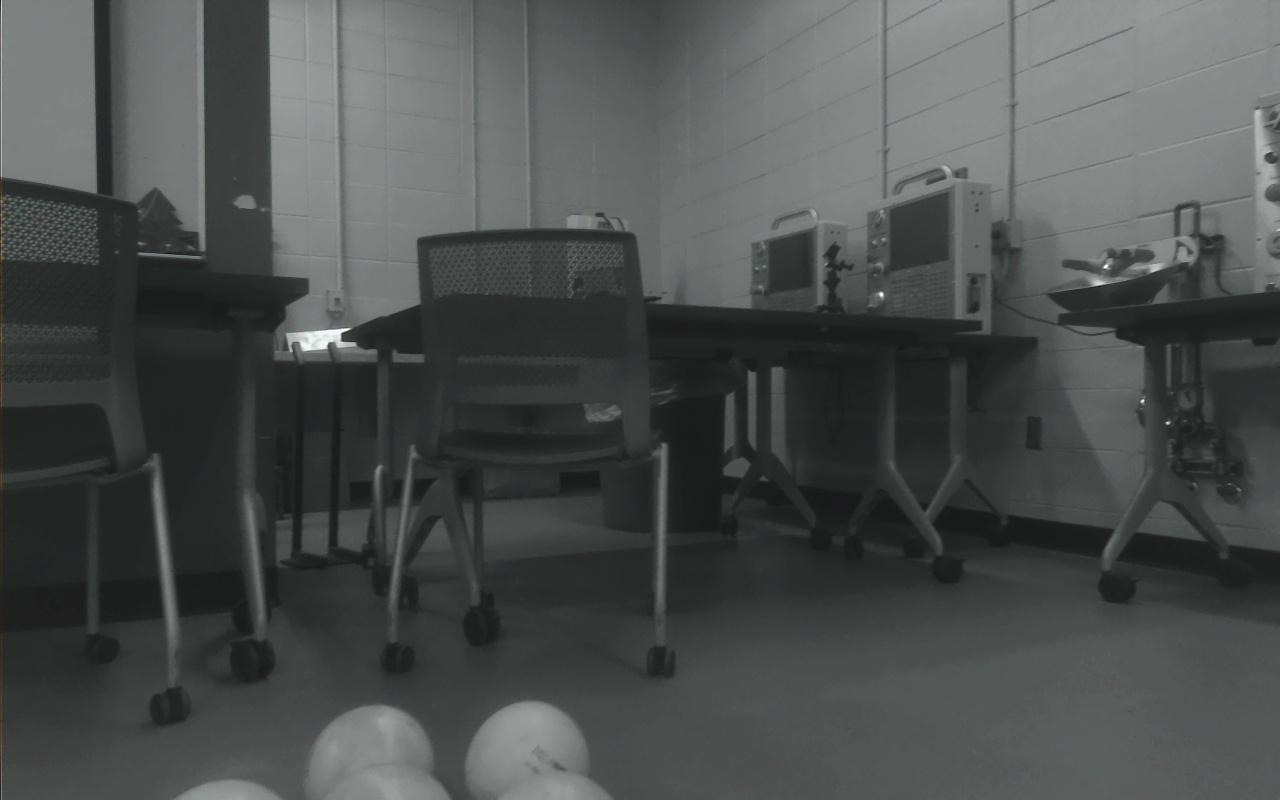Fuel: (465, 700, 593, 800), (305, 704, 435, 800), (324, 762, 452, 800), (494, 772, 614, 800), (172, 778, 284, 800)
